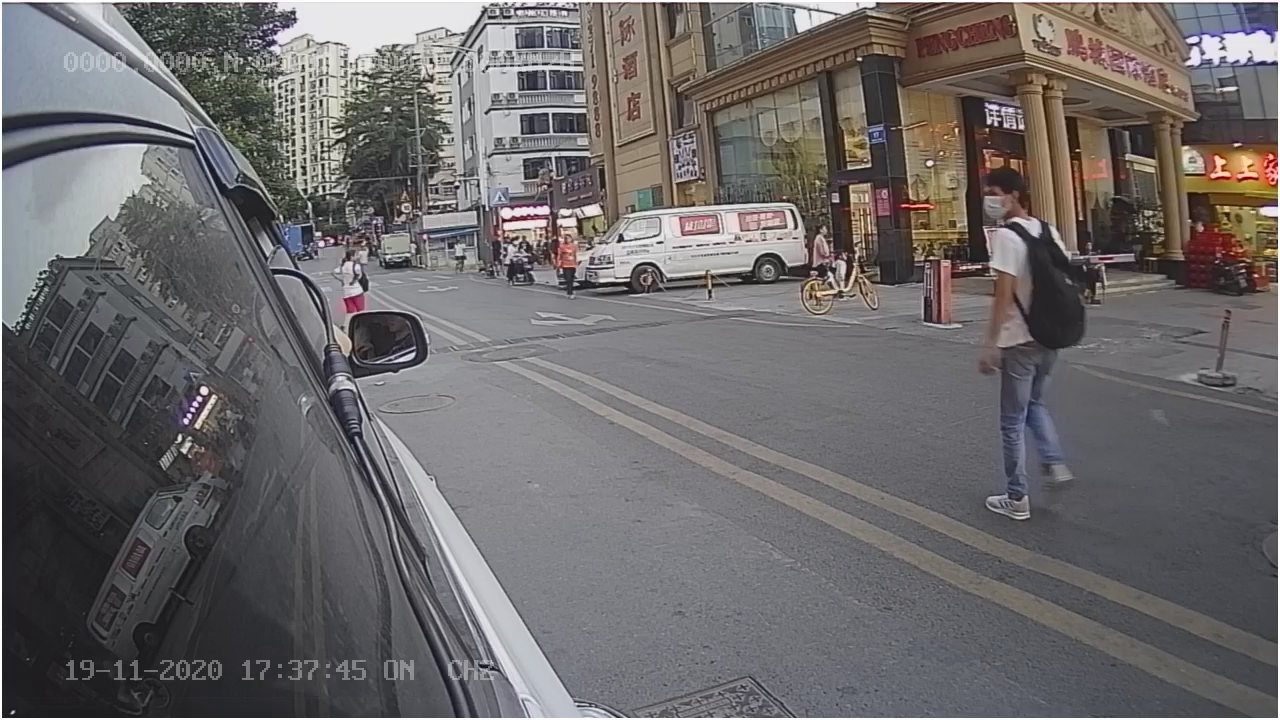person: (978, 163, 1084, 496)
